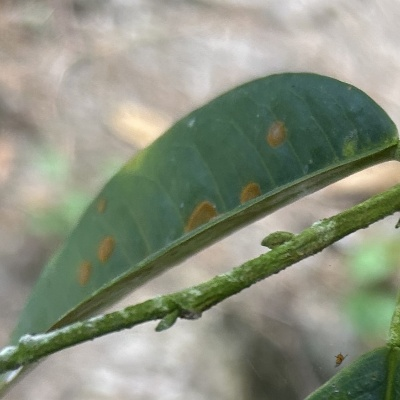Leaf_Algal: (0, 71, 400, 400)
